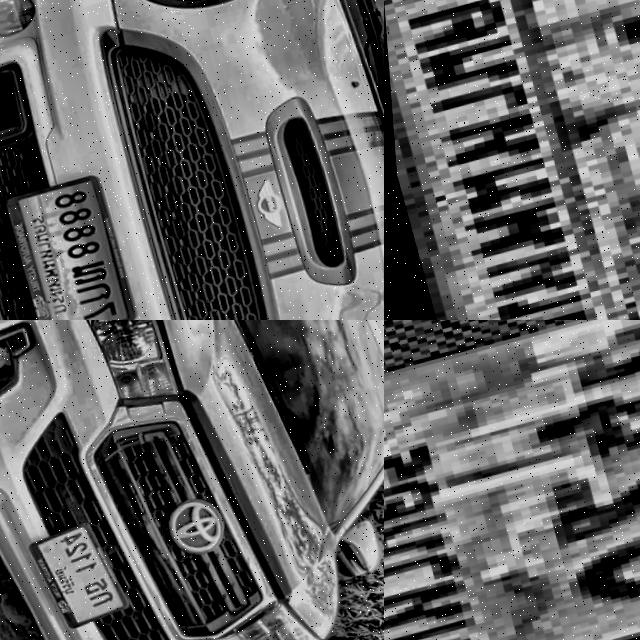license-plate: (384, 0, 640, 320), (384, 320, 640, 640), (0, 172, 134, 320), (15, 515, 130, 639)
